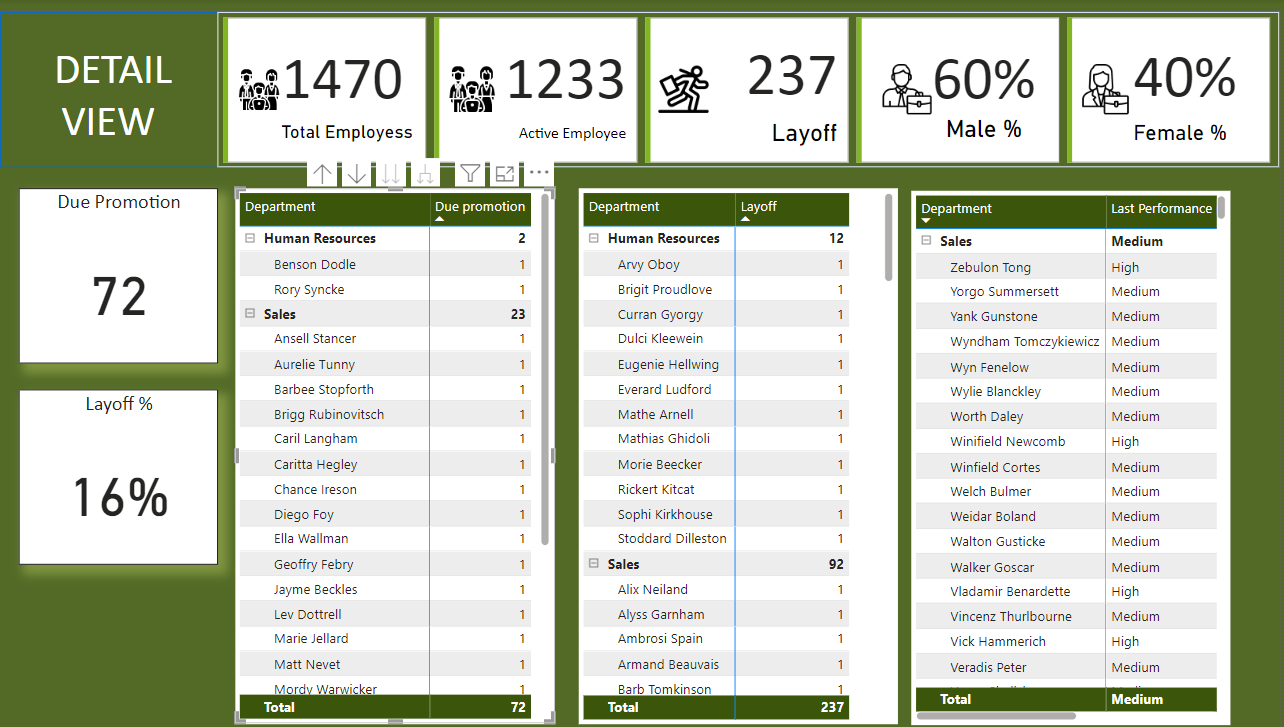

This screenshot's page, from the dashboard's own definition file:
{"tool":"powerbi","page":{"name":"Detail","canvas":[1280,720],"ordinal":2},"visuals":[{"type":"shape","box":[0,0,1280,155.6],"z":0},{"type":"textbox","box":[19.3,25.3,188.2,118.2],"z":1000},{"type":"cardVisual","fields":{"Data":["Key Measures.Total Employess","Key Measures.Active Employee","Key Measures.Layoff","Key Measures.Male %","Key Measures.Female %"]},"box":[218.1,0,1061.9,155.4],"z":2000},{"type":"card","title":"Due Promotion","fields":{"Values":["Key Measures.Due promotion"]},"box":[19.3,176.1,199.1,174.9],"z":3000},{"type":"card","title":"Layoff %","fields":{"Values":["Key Measures.Layoff %"]},"box":[19.3,377.6,199.1,174.9],"z":4000},{"type":"pivotTable","fields":{"Rows":["DimDepartment.Department","DimEmployee.Name"],"Values":["Key Measures.Due promotion"]},"box":[235.3,176.1,319.7,535.7],"z":5000},{"type":"pivotTable","fields":{"Rows":["DimDepartment.Department","DimEmployee.Name"],"Values":["Key Measures.Layoff"]},"box":[578.7,176.7,319.3,535.9],"z":6000},{"type":"pivotTable","fields":{"Rows":["DimDepartment.Department","DimEmployee.Name"],"Values":["Fact_HR Data.Performance rating category"]},"box":[910.8,178.2,319.3,534.5],"z":7000}]}

Visuals, with their boxes in screenshot pixels (x1, y1, x2, y2):
shape: {"left": 3, "top": 10, "right": 1270, "bottom": 164}
textbox: {"left": 22, "top": 35, "right": 209, "bottom": 152}
cardVisual - Key Measures.Total Employess x Key Measures.Active Employee: {"left": 219, "top": 10, "right": 1270, "bottom": 164}
"Due Promotion" card: {"left": 22, "top": 184, "right": 219, "bottom": 357}
"Layoff %" card: {"left": 22, "top": 384, "right": 219, "bottom": 557}
pivotTable - DimDepartment.Department x DimEmployee.Name: {"left": 236, "top": 184, "right": 552, "bottom": 714}
pivotTable - DimDepartment.Department x DimEmployee.Name: {"left": 576, "top": 185, "right": 892, "bottom": 715}
pivotTable - DimDepartment.Department x DimEmployee.Name: {"left": 904, "top": 186, "right": 1220, "bottom": 715}
